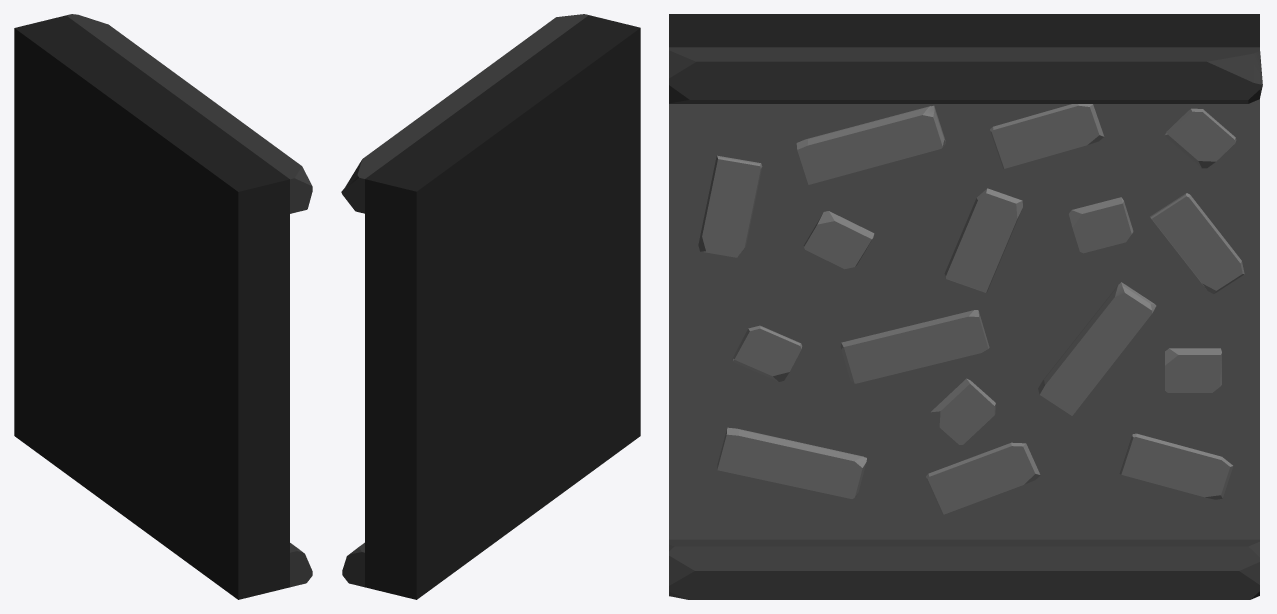
The model's file is DungeonWall.glb.
3 renders of one model, left to right at view 1: azimuth 30°, elevation 25°; view 2: azimuth 150°, elevation 25°; view 3: azimuth 270°, elevation 25°, orthographic. The views are drawn at different scales.
Visible parts, largest first — view 1: Cube.003; view 2: Cube.003; view 3: Cube.003.
Boxes of the visible parts, x1,y1,x2,y2 form: Cube.003: (14,14,312,599); Cube.003: (341,14,640,599); Cube.003: (669,14,1262,599).
Bounding box in the file's own units: 0.3811 × 2 × 2.
1 material, 1 textured.
